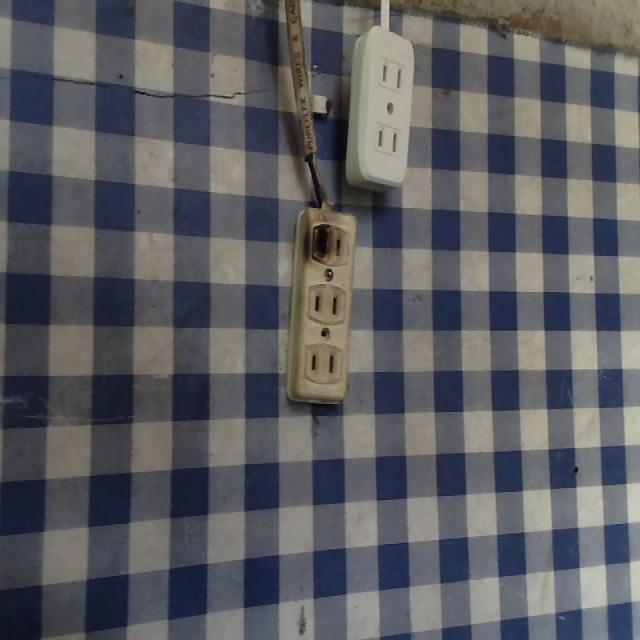-: (304, 212, 335, 268)
